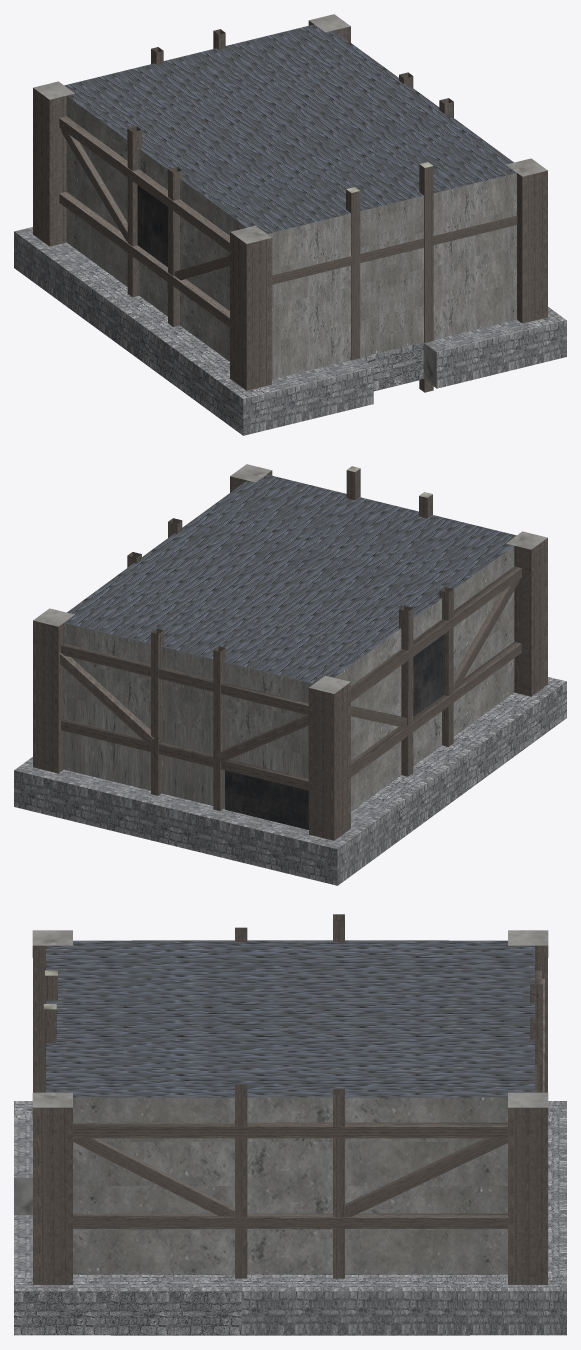
Rendered from PRIESTHQ.fbx.
3 renders of one model, top to bottom at view 1: azimuth 30°, elevation 25°; view 2: azimuth 150°, elevation 25°; view 3: azimuth 270°, elevation 25°, orthographic. The views are drawn at different scales.
Parts seen in each view (by area): view 1: gUARDHOUSE.003; view 2: gUARDHOUSE.003; view 3: gUARDHOUSE.003.
Boxes of the visible parts, x1,y1,x2,y2 form: gUARDHOUSE.003: [14, 14, 566, 435]; gUARDHOUSE.003: [14, 464, 566, 885]; gUARDHOUSE.003: [14, 914, 566, 1335].
Bounding box in the file's own units: 1843 × 1222 × 2261.
2 materials, 1 textured.
